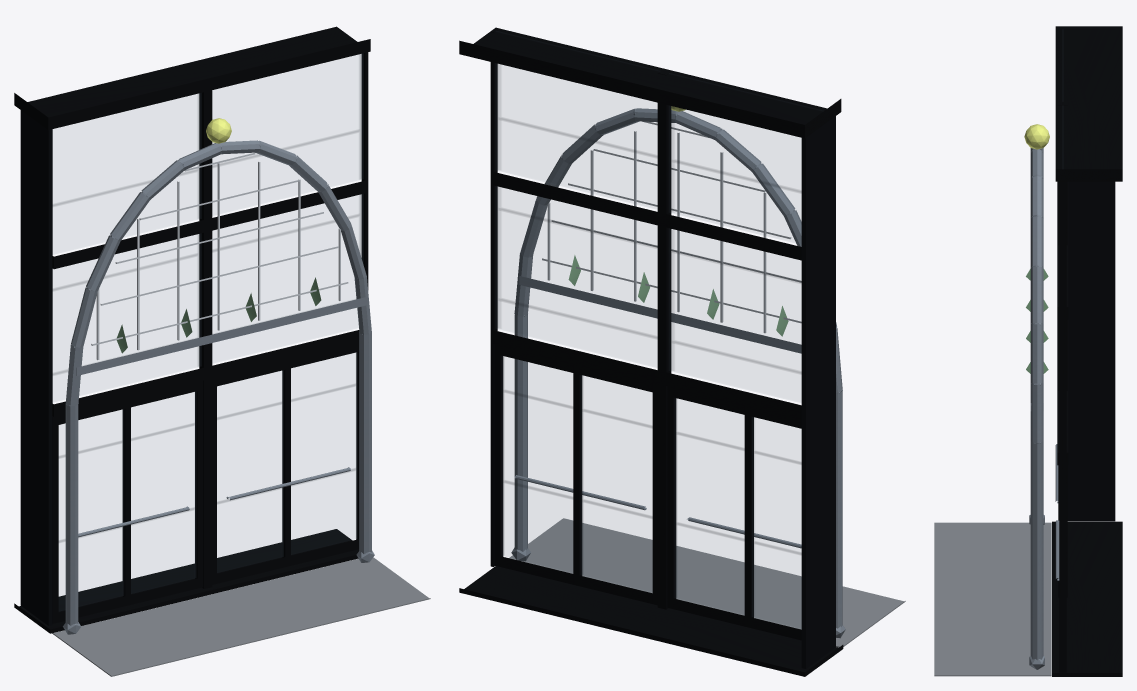
The picture shows the model from 3 angles, left to right: view 1: azimuth 30°, elevation 25°; view 2: azimuth 150°, elevation 25°; view 3: azimuth 270°, elevation 25°; orthographic projection. The views are drawn at different scales.
Parts seen in each view (by area): view 1: Frame, Threshold_Mat, Racket_Frame, Heavy_Fin_Slate, Door_Stiles, Racket_Strings, Glass_Door_1, Glass_Door_0, Glass_Mid_0, Glass_Upper_1, Push_Bars, Glass_Upper_0 (+2 smaller); view 2: Frame, Heavy_Fin_Slate, Door_Stiles, Threshold_Mat, Racket_Frame, Racket_Strings, Glass_Mid_1, Glass_Door_1, Glass_Door_0, Glass_Mid_0, Glass_Upper_1, Glass_Upper_0 (+2 smaller); view 3: Frame, Threshold_Mat, Heavy_Fin_Slate, Racket_Frame, Ball_Keystone, Push_Bars, Leaf_Crests.
Boxes of the visible parts, box(x1,y1,x2,y2) form: Frame: box(14, 26, 370, 633); Threshold_Mat: box(52, 557, 430, 676); Racket_Frame: box(63, 140, 374, 634); Heavy_Fin_Slate: box(20, 110, 52, 625); Door_Stiles: box(52, 342, 359, 623); Racket_Strings: box(91, 152, 348, 360); Glass_Door_1: box(217, 352, 357, 556); Glass_Door_0: box(59, 392, 196, 595); Glass_Mid_0: box(53, 233, 201, 375); Glass_Upper_1: box(212, 53, 363, 179); Push_Bars: box(78, 467, 350, 537); Glass_Upper_0: box(53, 93, 201, 218); Frame: box(459, 27, 843, 676); Heavy_Fin_Slate: box(801, 116, 835, 668); Door_Stiles: box(494, 344, 801, 640); Threshold_Mat: box(509, 518, 905, 647); Racket_Frame: box(511, 108, 845, 638); Racket_Strings: box(542, 121, 801, 333); Glass_Mid_1: box(495, 186, 657, 339); Glass_Door_1: box(502, 356, 652, 574); Glass_Door_0: box(675, 398, 801, 616); Glass_Mid_0: box(669, 228, 801, 374); Glass_Upper_1: box(495, 63, 657, 170); Glass_Upper_0: box(669, 106, 801, 212); Frame: box(1052, 26, 1122, 676); Threshold_Mat: box(934, 522, 1051, 676); Heavy_Fin_Slate: box(1060, 29, 1115, 521); Racket_Frame: box(1029, 148, 1044, 669); Ball_Keystone: box(1024, 124, 1049, 149); Push_Bars: box(1055, 444, 1059, 580); Leaf_Crests: box(1026, 269, 1048, 373).
Size of the model in its own units: 4 by 6.1 by 2.05.
Materials: 8 (5 with a texture image).
